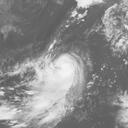cyclone: (33, 53, 88, 108)
